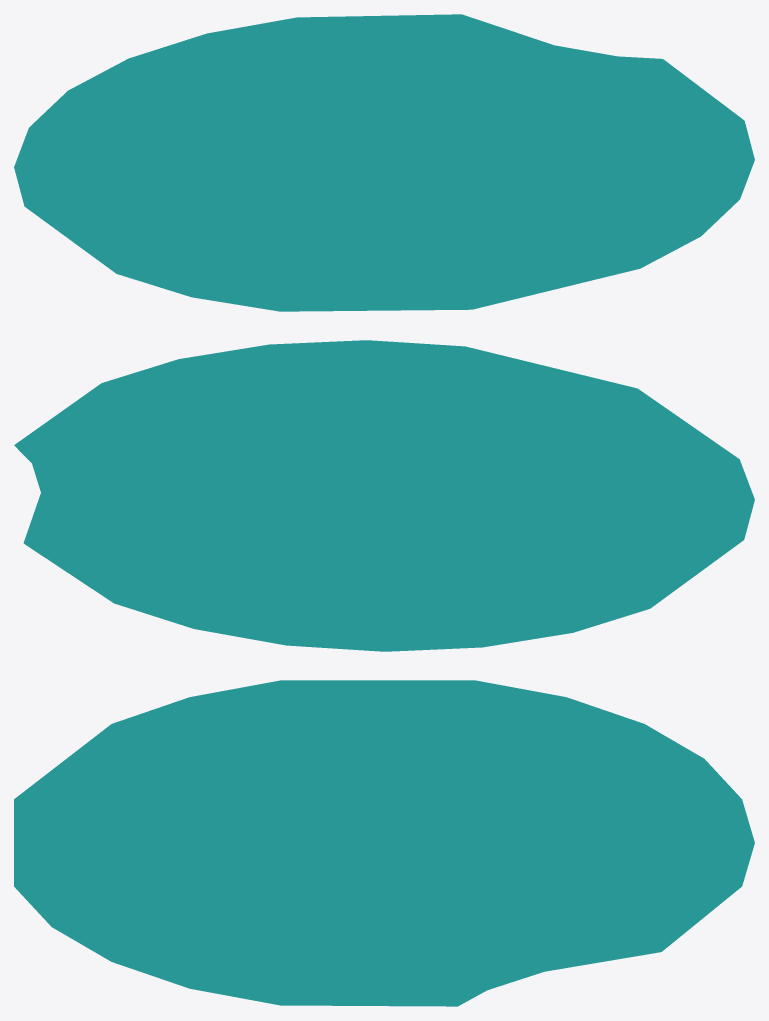
Rendered from grape_color_12.fbx.
3 renders of one model, top to bottom at view 1: azimuth 30°, elevation 25°; view 2: azimuth 150°, elevation 25°; view 3: azimuth 270°, elevation 25°, orthographic. The views are drawn at different scales.
Visible parts, largest first — view 1: grape_color_12; view 2: grape_color_12; view 3: grape_color_12.
Part boxes in pixels (box(x1,y1,x2,y2)): grape_color_12: box(14, 14, 754, 311); grape_color_12: box(14, 340, 754, 651); grape_color_12: box(14, 680, 754, 1006).
Bounding box in the file's own units: 17.15 × 0 × 16.47.
